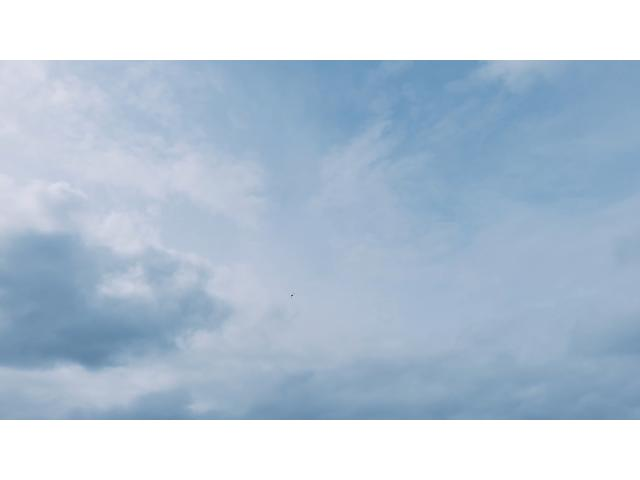Anti-Drone: (288, 291, 298, 299)
